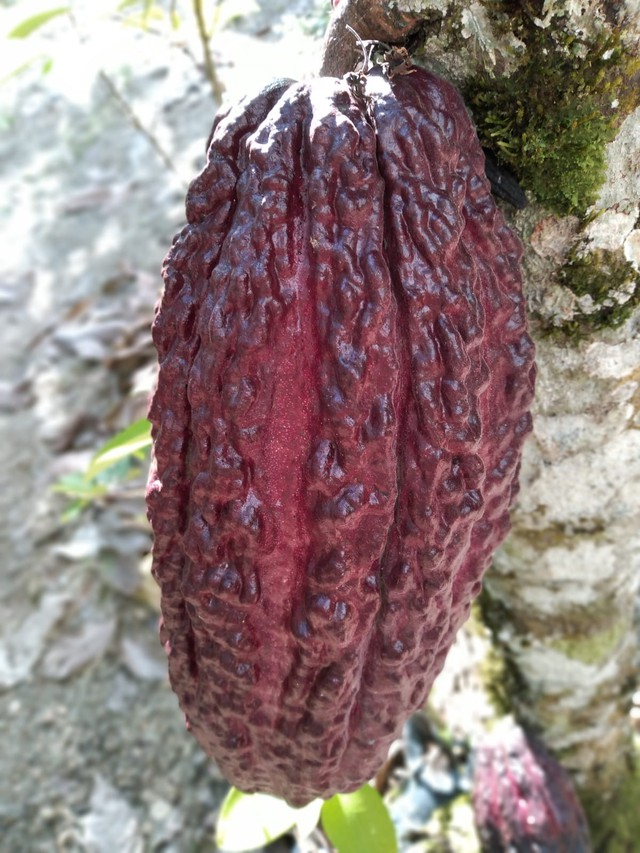Health: (140, 50, 545, 820)
